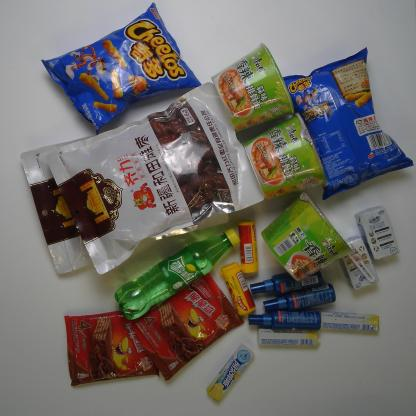Candy: (206, 344, 255, 402), (219, 262, 256, 316), (237, 220, 259, 274), (321, 312, 379, 332), (258, 328, 318, 346)
Dessert: (130, 272, 245, 381), (64, 310, 162, 386)
Dried Food: (45, 81, 265, 274), (19, 135, 230, 274)
Drink: (114, 228, 240, 321)
Instant Noodles: (261, 192, 354, 282), (210, 42, 295, 132), (242, 112, 328, 200)
Milk: (354, 205, 400, 261), (338, 235, 380, 291)
Personal Hygiene: (263, 283, 336, 312), (249, 270, 324, 293), (248, 310, 321, 331)
Puffed Food: (39, 2, 204, 135), (282, 46, 414, 201)
